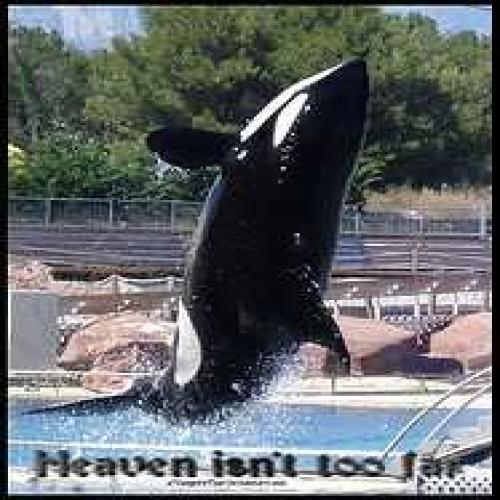killer_whale-endangered: (140, 46, 386, 434)
